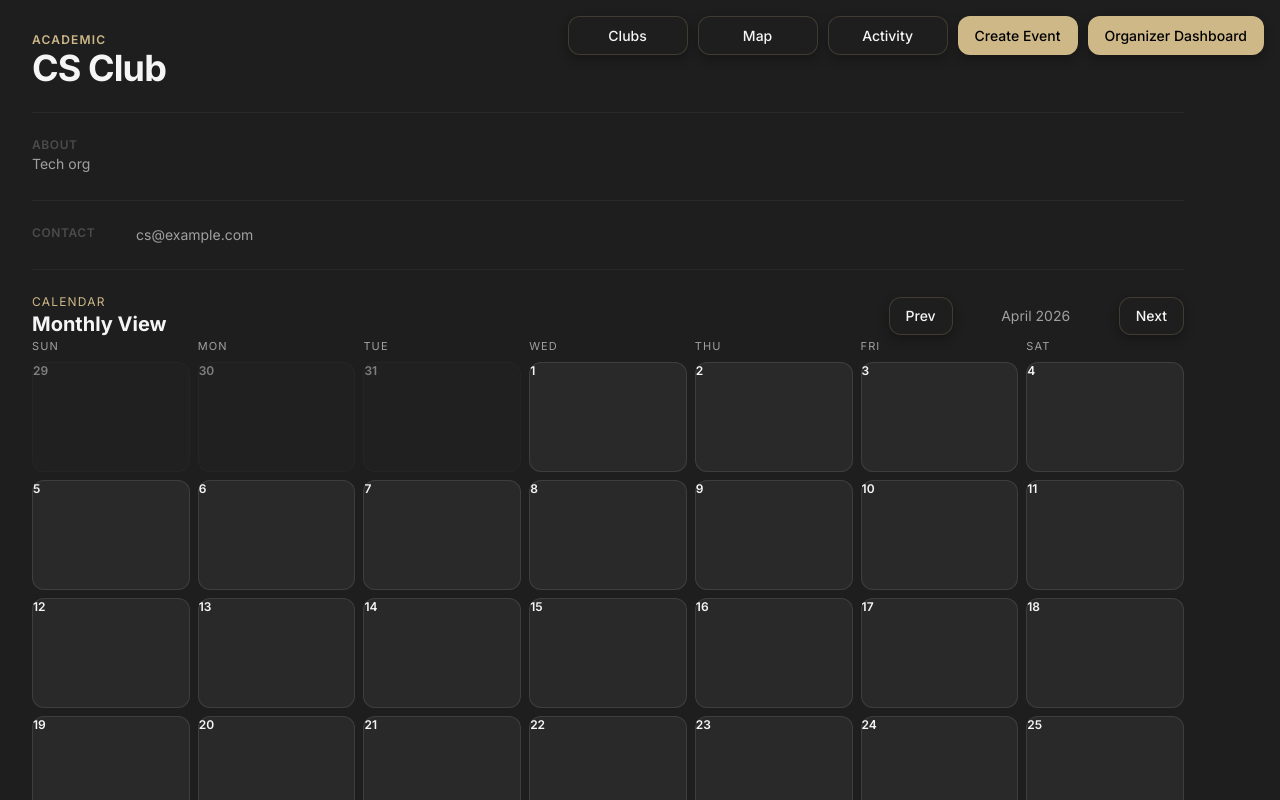
Test: ClubProfile page › shows the create event modal for an organizer user with only _id
This screenshot has width=1280, height=800.
Check: the heading "CS Club" is shown, box [32,46,166,90]
Click the button "Create Event" at (1018, 36), box [958,16,1078,55]
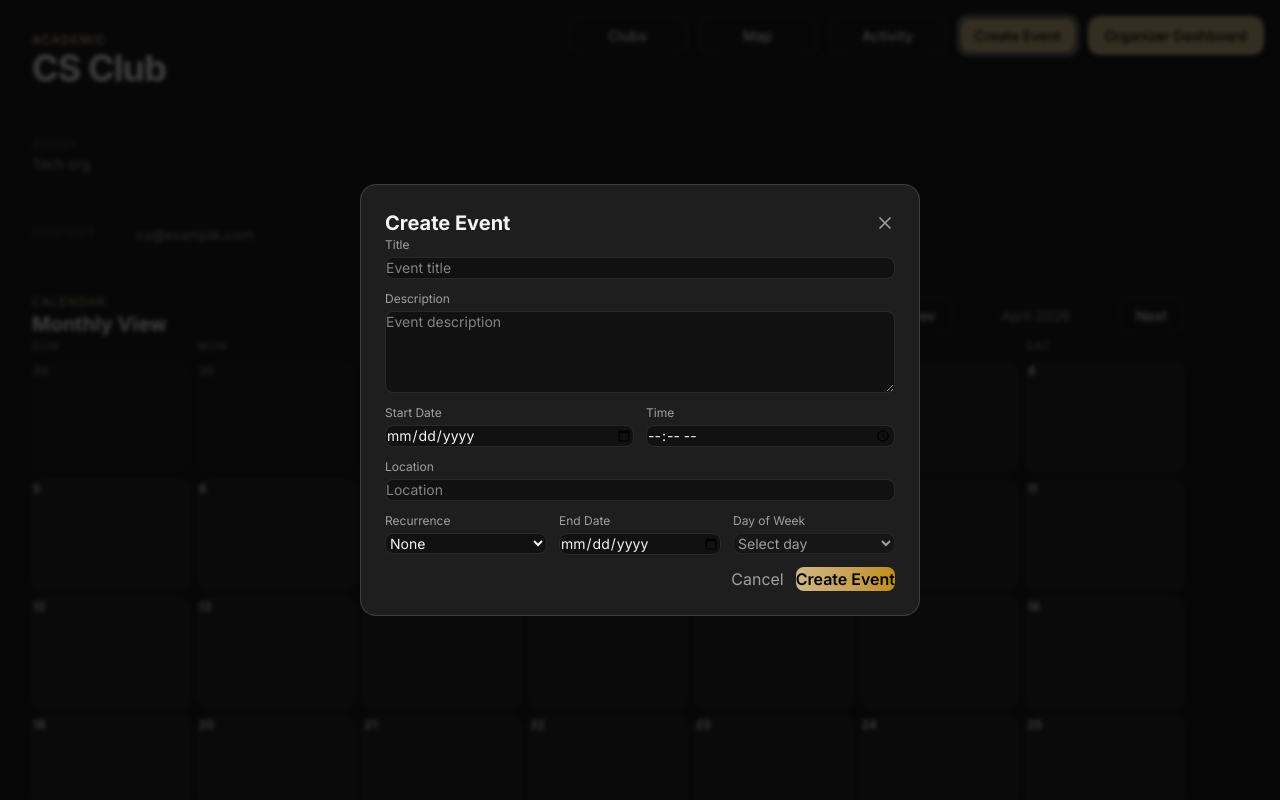
Check: the heading "Create Event" is shown, box [385,209,510,237]
Check: the field with placeholder "Event title" is shown, box [385,257,895,279]
